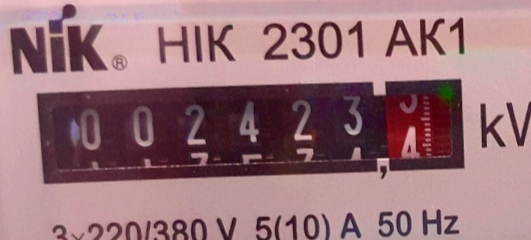0: (78, 103, 106, 152), (131, 102, 157, 148)
2: (183, 99, 210, 146), (290, 96, 315, 142)
3: (341, 91, 366, 137), (399, 90, 421, 113)
4: (237, 98, 261, 144), (398, 121, 424, 159)
screen: (27, 66, 479, 195)
